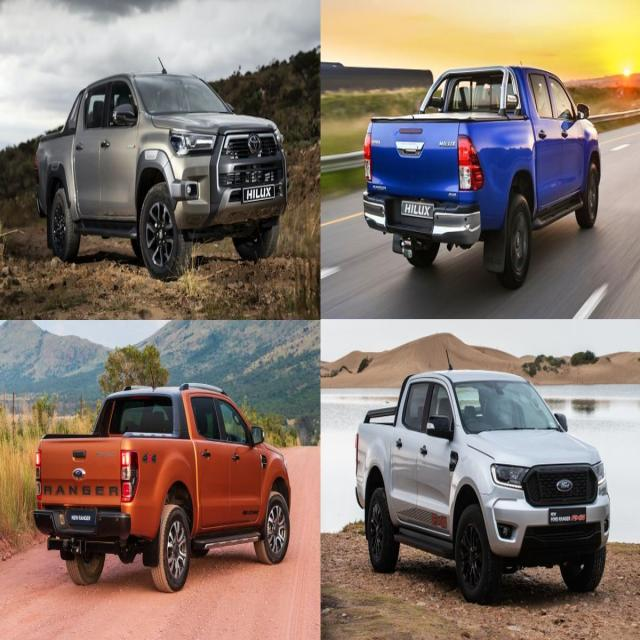Pickup Trucks: (355, 370, 610, 602), (33, 366, 291, 594), (36, 57, 290, 283), (363, 60, 602, 290)
